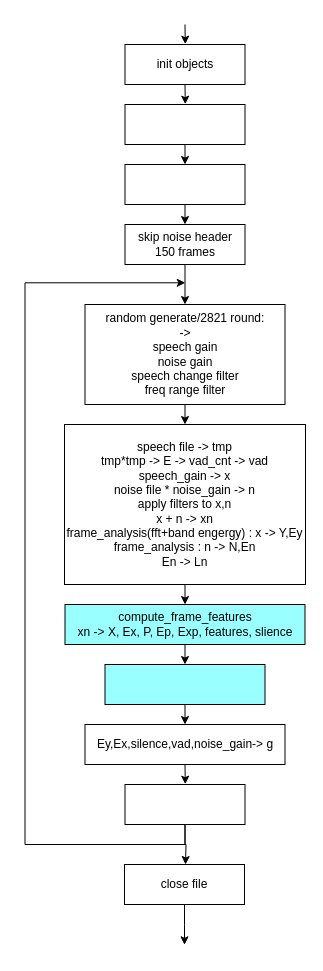
Some shapes in this 323 by 971 pixel diagram are drawn without their labels. Each missing label, with the centre of its shape:
"features -> file" belongs at (184,804).
"open file" belongs at (184,184).
"parse cmd para" belongs at (184,124).
"pitch_filter X,P,Ex,Ep,Exp,g -> X" belongs at (184,684).
